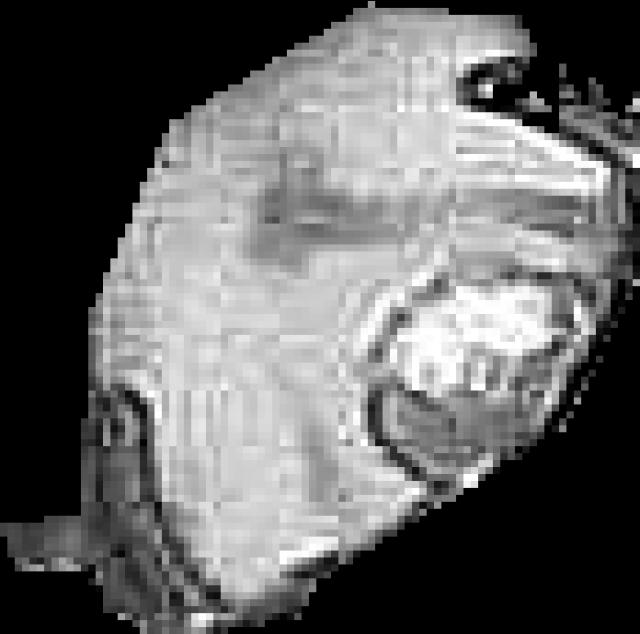tumor_moderate_chance: (0, 1, 640, 634)
